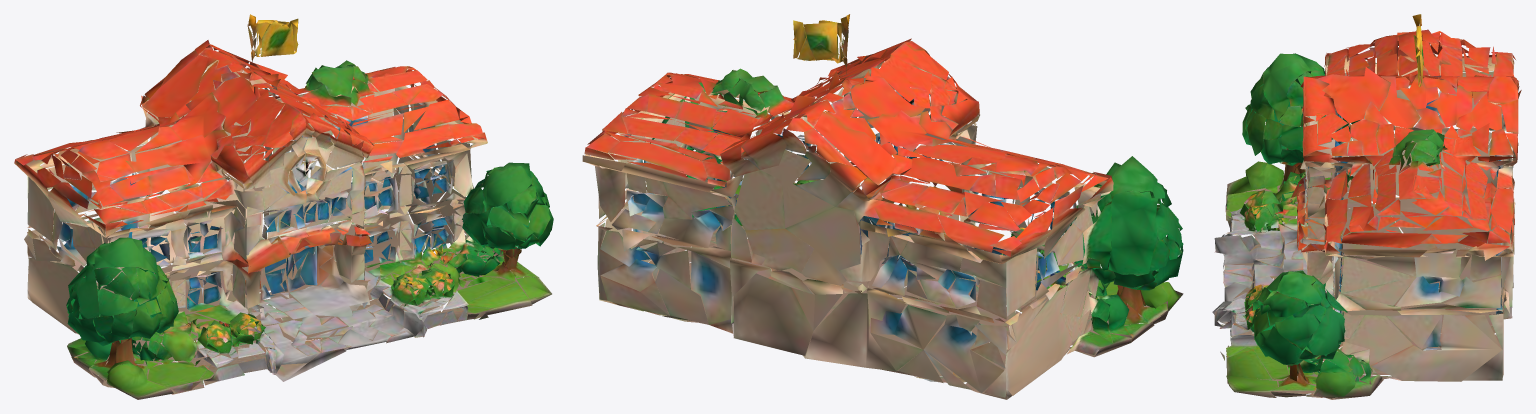
Rendered from school.glb.
The picture shows the model from 3 angles, left to right: view 1: azimuth 30°, elevation 25°; view 2: azimuth 150°, elevation 25°; view 3: azimuth 270°, elevation 25°; orthographic projection. The views are drawn at different scales.
Parts seen in each view (by area): view 1: Mesh_0; view 2: Mesh_0; view 3: Mesh_0.
Part boxes in pixels (<box>): Mesh_0: <box>14,14,553,399</box>; Mesh_0: <box>582,14,1183,399</box>; Mesh_0: <box>1212,14,1521,399</box>.
Bounding box in the file's own units: 1.9 × 1.08 × 1.05.
1 material, 1 textured.
